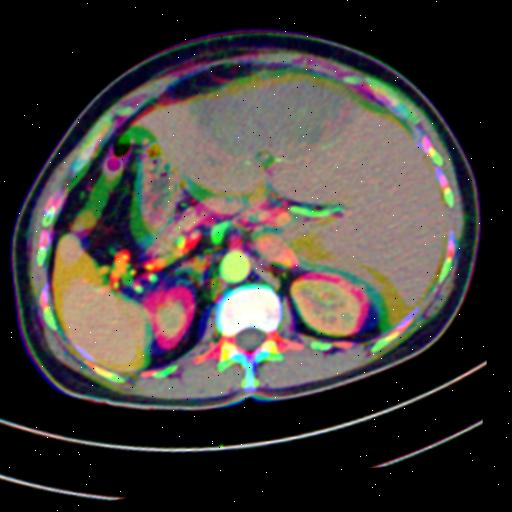Abscess: (192, 82, 350, 159)
